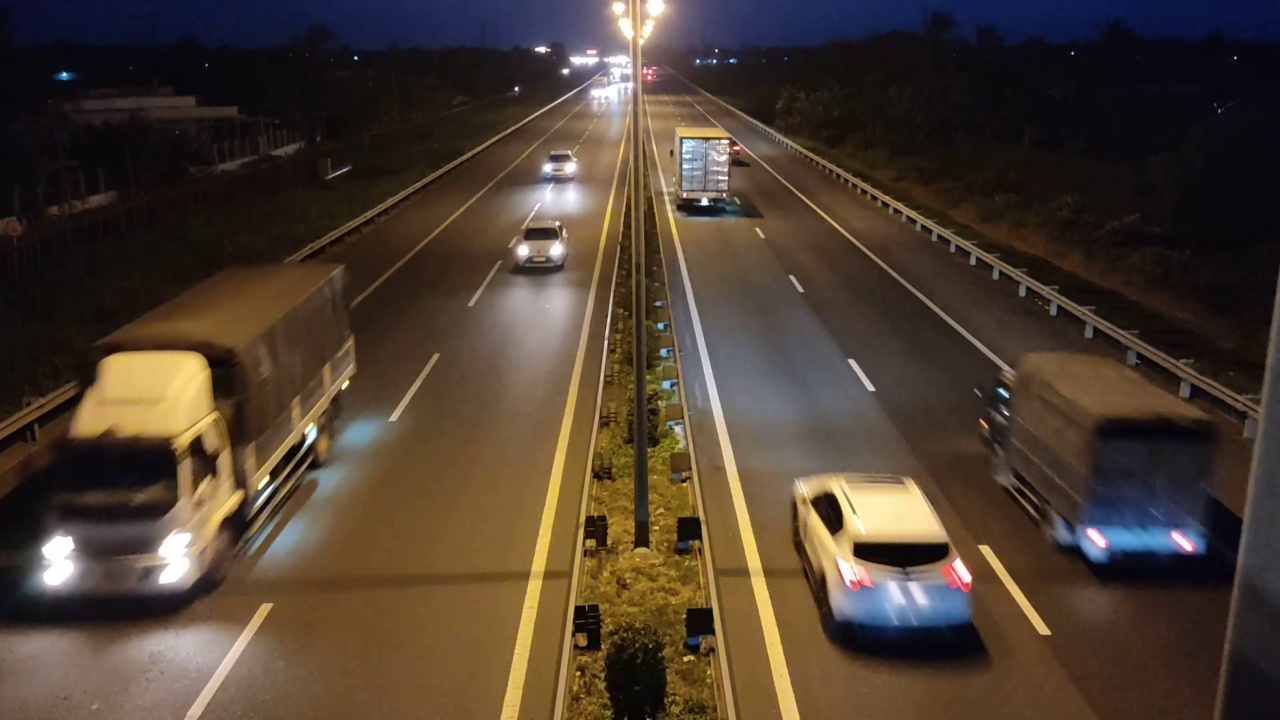car: (790, 470, 979, 651), (507, 219, 569, 273), (540, 149, 579, 182)
truck: (37, 262, 360, 609), (979, 350, 1221, 576), (673, 127, 735, 215)
